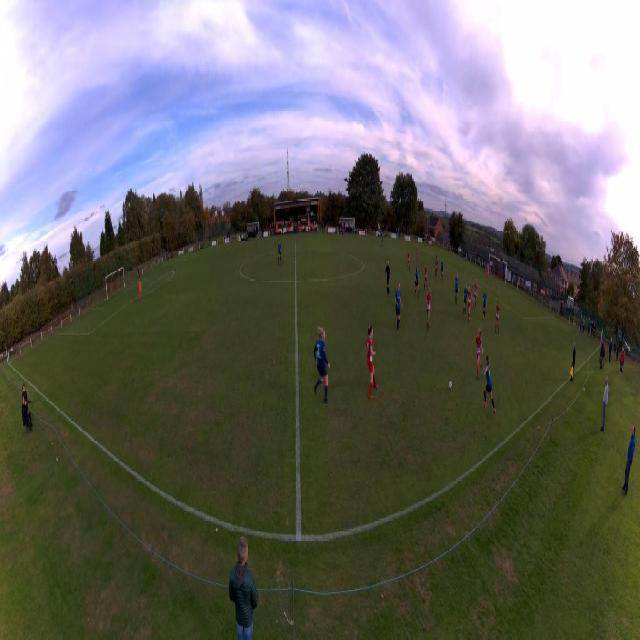ball: (448, 380, 452, 390)
player: (313, 325, 331, 405), (365, 324, 379, 401), (480, 355, 496, 415), (475, 327, 484, 382), (394, 280, 403, 331), (426, 287, 432, 335), (384, 260, 391, 298), (467, 286, 474, 322), (494, 300, 500, 334), (483, 287, 488, 323), (414, 267, 419, 298), (473, 279, 478, 310), (455, 271, 459, 306), (463, 284, 467, 318), (424, 265, 428, 293), (278, 240, 282, 267), (434, 255, 438, 279), (407, 250, 411, 270), (139, 278, 142, 302), (441, 259, 444, 280), (380, 233, 383, 248), (485, 268, 488, 282), (416, 244, 418, 262)
